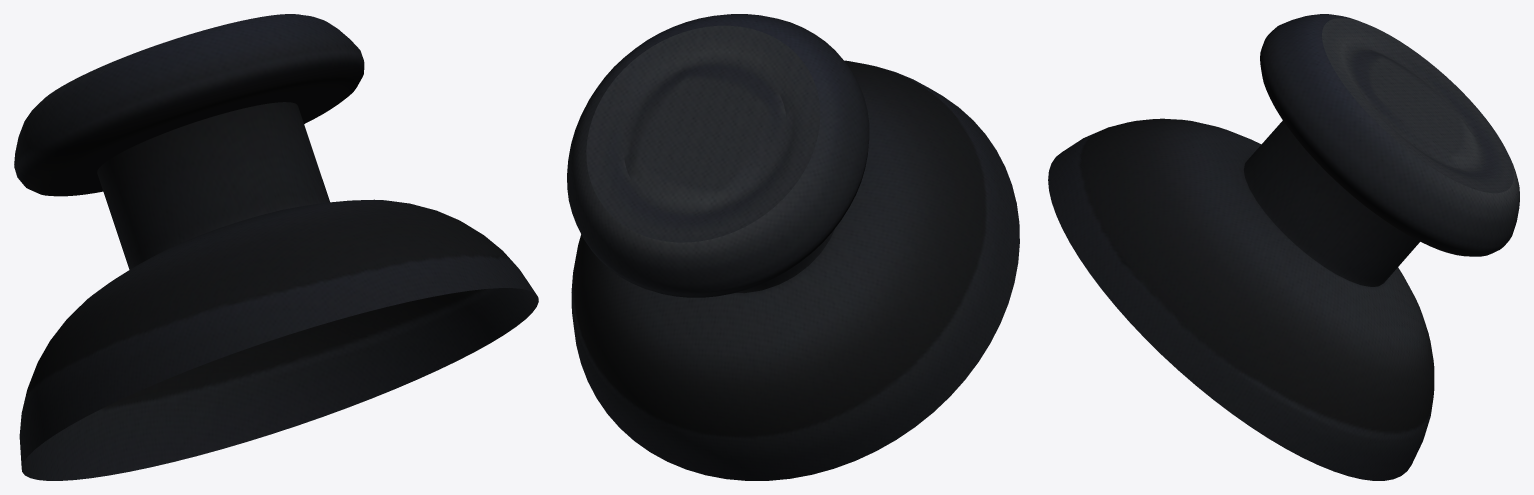
The model's file is playstation_vr2_sense_left_joystick.obj.
3 views of the same model, side by side, from view 1: azimuth 30°, elevation 25°; view 2: azimuth 150°, elevation 25°; view 3: azimuth 270°, elevation 25° (orthographic). The views are drawn at different scales.
Visible parts, largest first — view 1: mesh_stick_L; view 2: mesh_stick_L; view 3: mesh_stick_L.
Part boxes in pixels (<box>): mesh_stick_L: <box>14,14,538,480</box>; mesh_stick_L: <box>567,14,1019,480</box>; mesh_stick_L: <box>1048,14,1519,480</box>.
Bounding box in the file's own units: 0.0208 × 0.0202 × 0.0208.
Materials: 1 (1 with a texture image).
